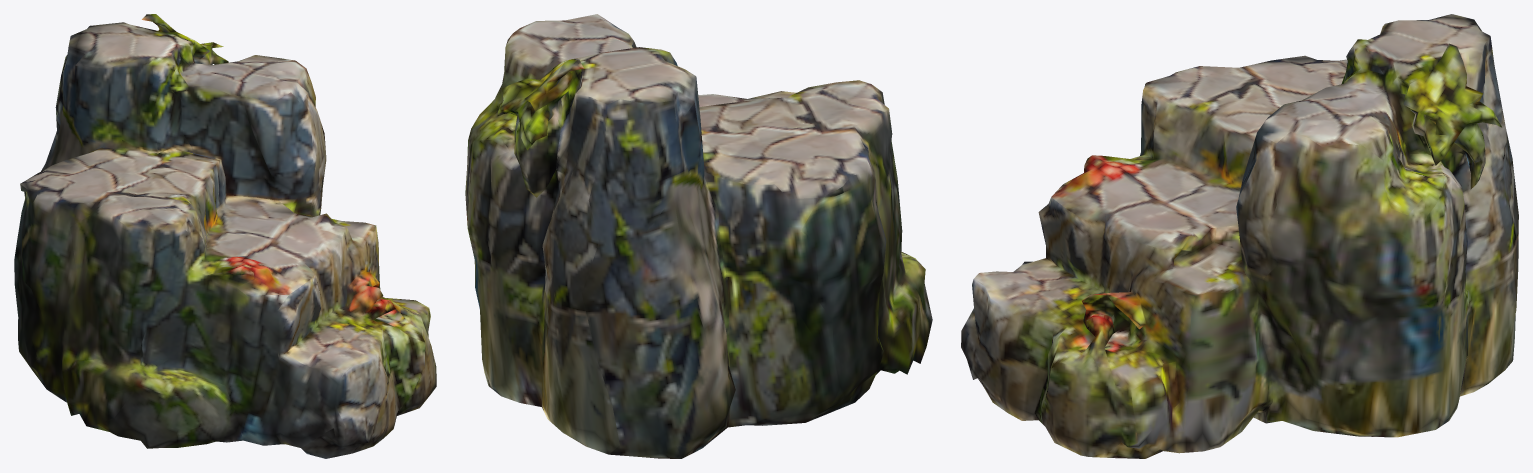
Rendered from SummerDecor_FirstRoom_RockSteps.fbx.
3 views of the same model, side by side, from view 1: azimuth 30°, elevation 25°; view 2: azimuth 150°, elevation 25°; view 3: azimuth 270°, elevation 25° (orthographic). The views are drawn at different scales.
Visible parts, largest first — view 1: SummerDecor_FirstRoom_RockSteps_Mesh; view 2: SummerDecor_FirstRoom_RockSteps_Mesh; view 3: SummerDecor_FirstRoom_RockSteps_Mesh.
Part boxes in pixels (left/top/right/bottom): SummerDecor_FirstRoom_RockSteps_Mesh: left=14, top=14, right=436, bottom=458; SummerDecor_FirstRoom_RockSteps_Mesh: left=465, top=14, right=932, bottom=458; SummerDecor_FirstRoom_RockSteps_Mesh: left=961, top=14, right=1518, bottom=458.
Bounding box in the file's own units: 4.78 × 4.09 × 6.
Materials: 1 (1 with a texture image).
